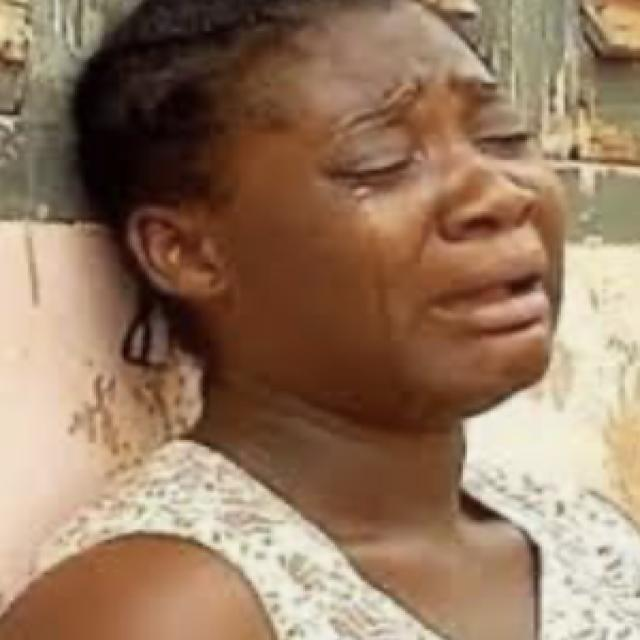sad: (90, 19, 616, 426)
